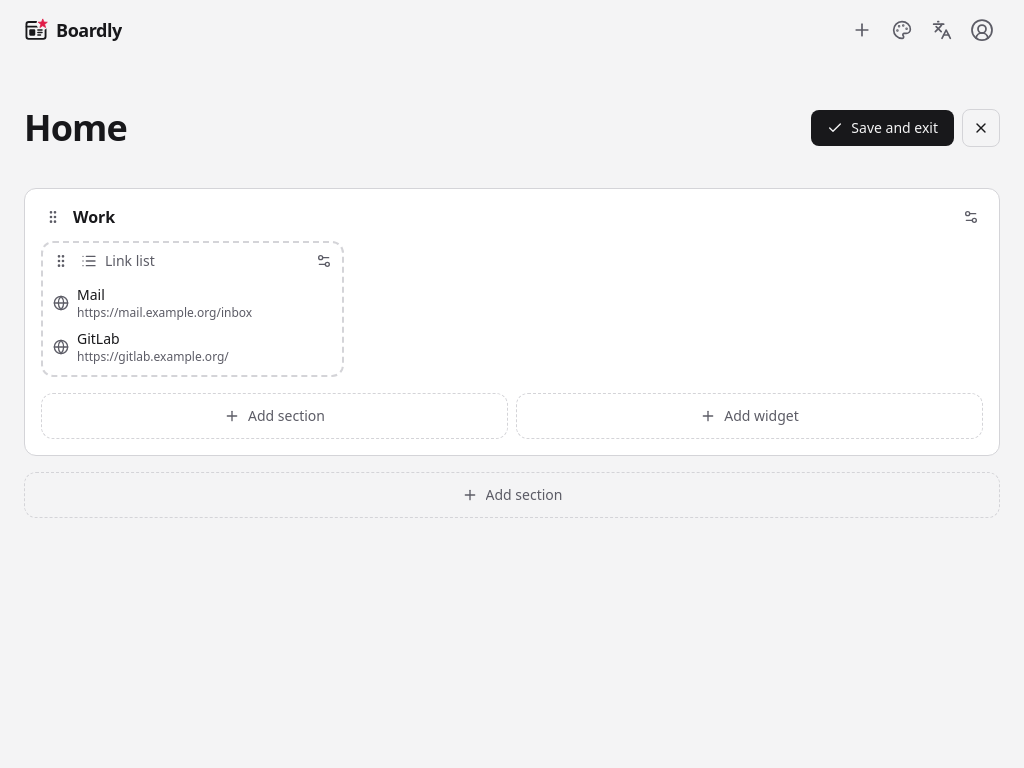
Test case: the link list's tag and sort › previews and saves a tag filter and a sort
The width and height of the screenshot is (1024, 768).
Expected: the button "Save and exit" is shown, [811, 110, 954, 146]
Expected: the link "Mail https://mail.example.org/inbox" is shown, [53, 285, 252, 321]
Click the button named "Edit Link list" at {"x": 324, "y": 261}, box [312, 249, 336, 273]
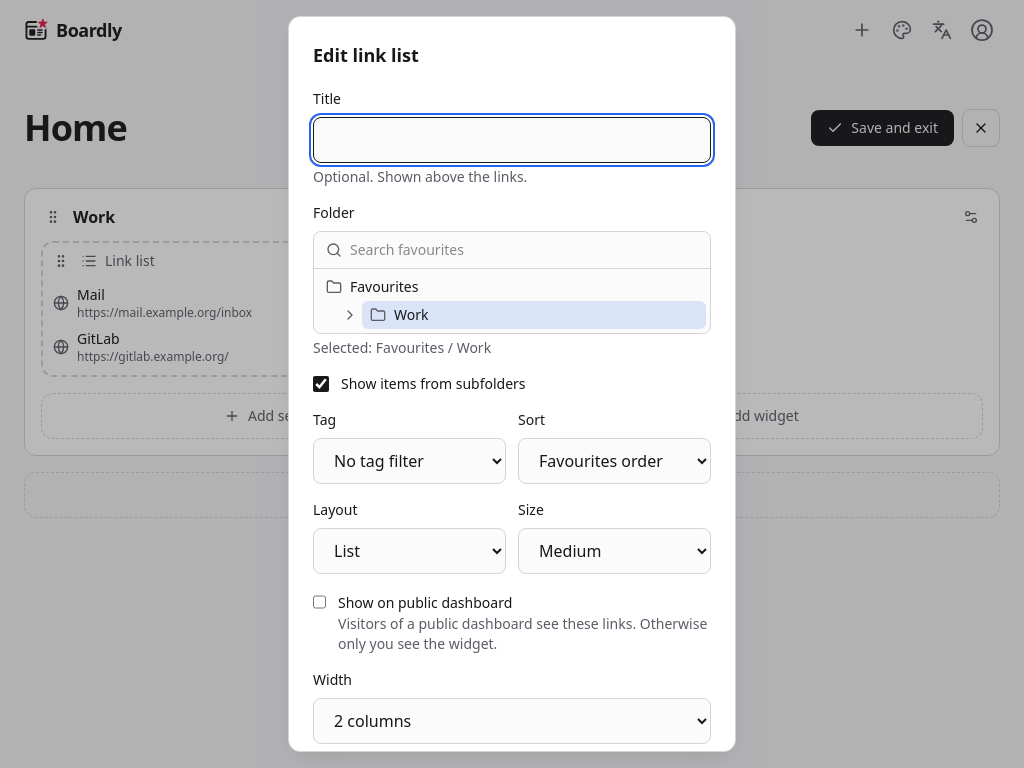
Select "monitoring" in the dropdown labelled "Tag" at {"x": 410, "y": 461}, box [313, 438, 506, 484]
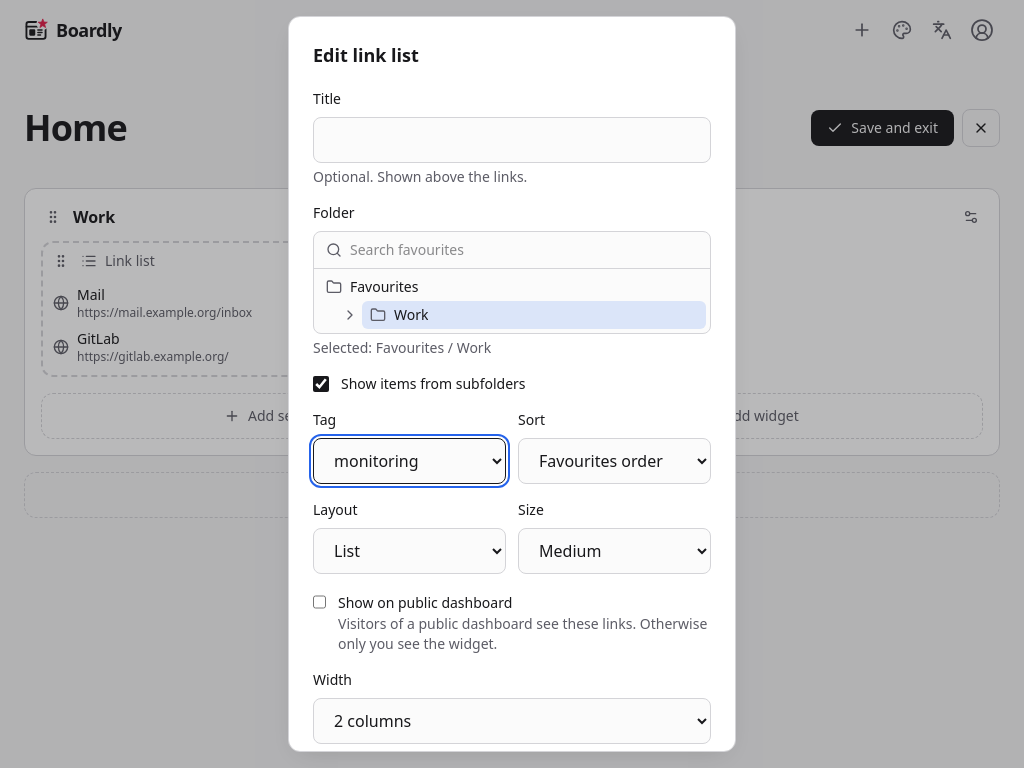
Select "Alphabetical" in the dropdown labelled "Sort" at {"x": 614, "y": 461}, box [518, 438, 711, 484]
(page scrolled)
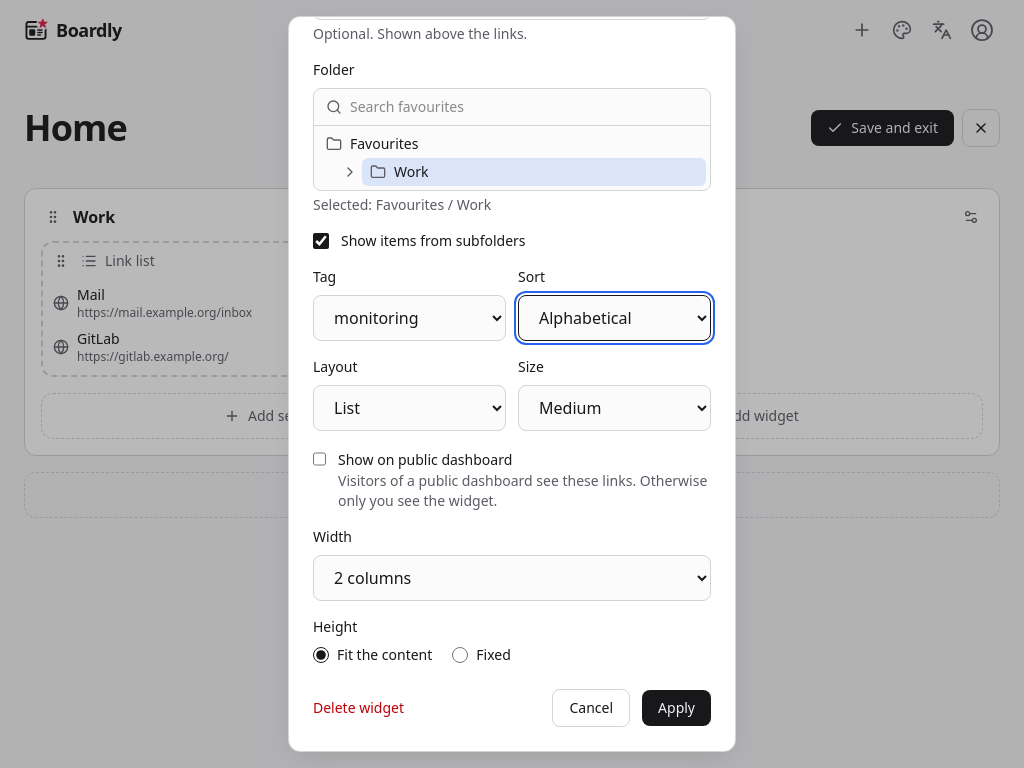
Click the button "Apply" at {"x": 677, "y": 708}, box [642, 690, 711, 726]
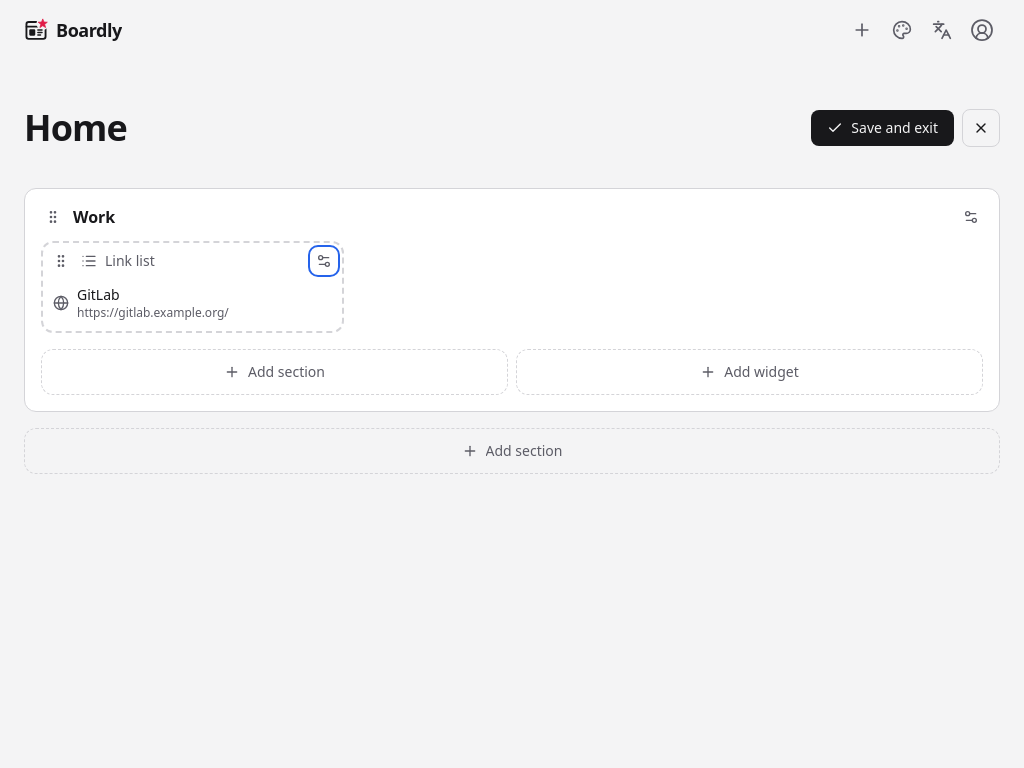
Expected: the link "GitLab https://gitlab.example.org/" is shown, [53, 285, 229, 321]
Now the link "Mail" is gone
